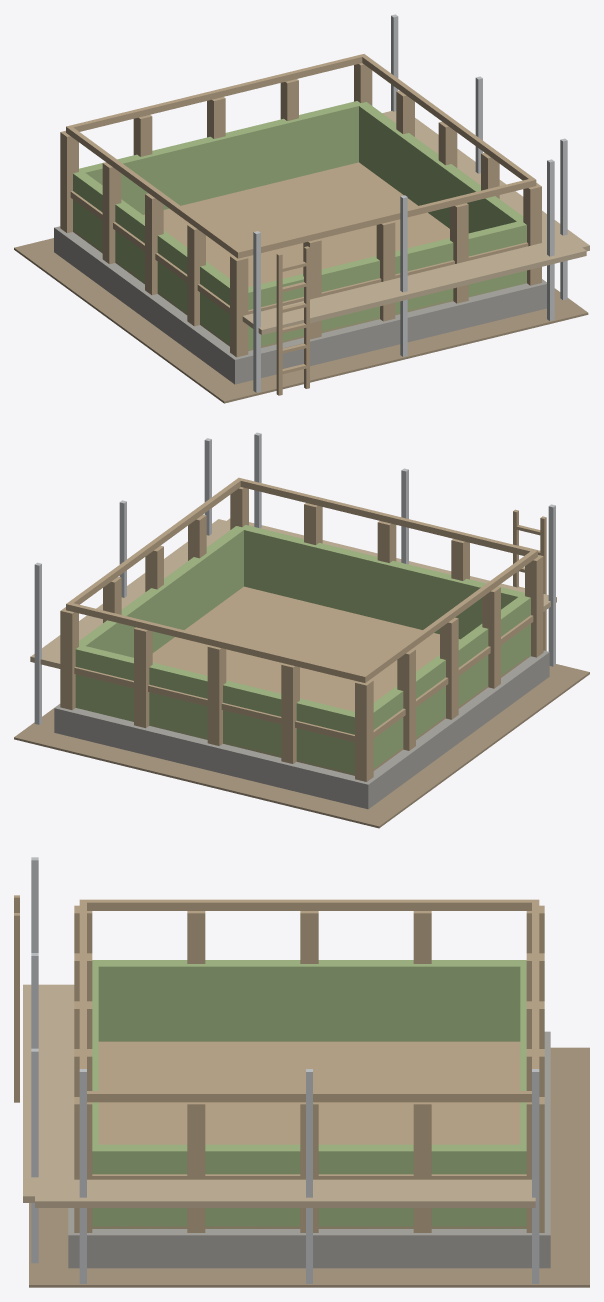
File: orchard_site_6.glb
3 renders of one model, top to bottom at view 1: azimuth 30°, elevation 25°; view 2: azimuth 150°, elevation 25°; view 3: azimuth 270°, elevation 25°, orthographic. The views are drawn at different scales.
Visible parts, largest first — view 1: body; view 2: body; view 3: body.
Part boxes in pixels (x1,y1,x2,y2): body: (14,14,589,403); body: (14,432,589,828); body: (14,857,589,1287).
Size of the model in its own units: 1.88 by 0.785 by 1.91.
